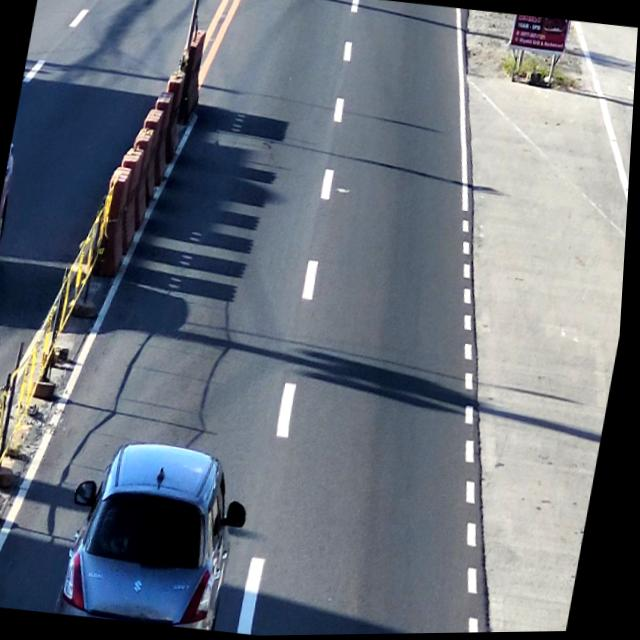Car: (64, 441, 254, 633)
